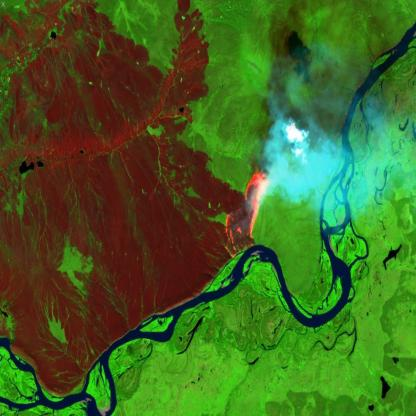fire: (218, 162, 276, 271)
